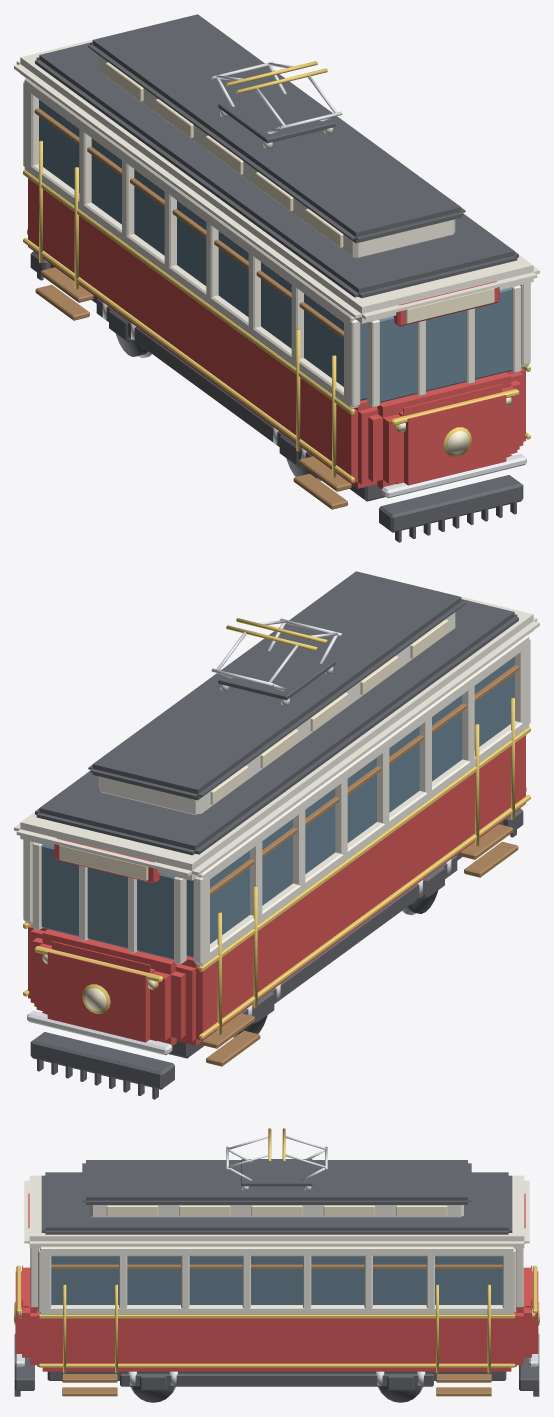
File: Istanbul_Tram.fbx
3 renders of one model, top to bottom at view 1: azimuth 30°, elevation 25°; view 2: azimuth 150°, elevation 25°; view 3: azimuth 270°, elevation 25°, orthographic. The views are drawn at different scales.
Parts seen in each view (by area): view 1: Istanbul_Tram; view 2: Istanbul_Tram; view 3: Istanbul_Tram.
Boxes of the visible parts, x1,y1,x2,y2 form: Istanbul_Tram: (14,14,539,542); Istanbul_Tram: (14,571,539,1099); Istanbul_Tram: (14,1128,539,1402).
Size of the model in its own units: 2.6 by 4.37 by 8.72.
